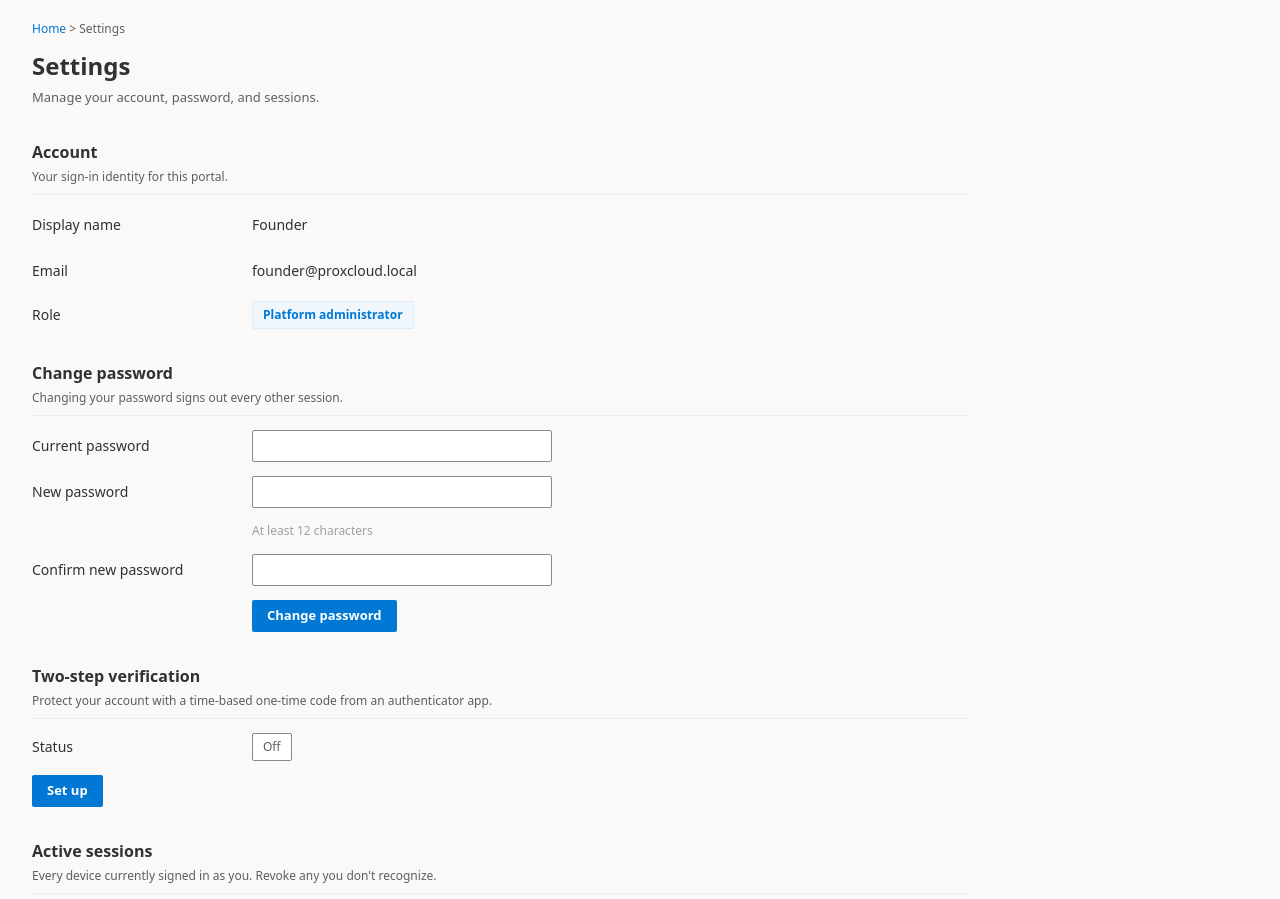
Scenario: Settings change-password — client-side guards › blocks submit and shows a length error when the new password is too short
The image size is (1280, 899).
Type "old-password-1" into the password field labelled "Current password" at (402, 446), box top-left (252, 430), bottom-right (552, 462)
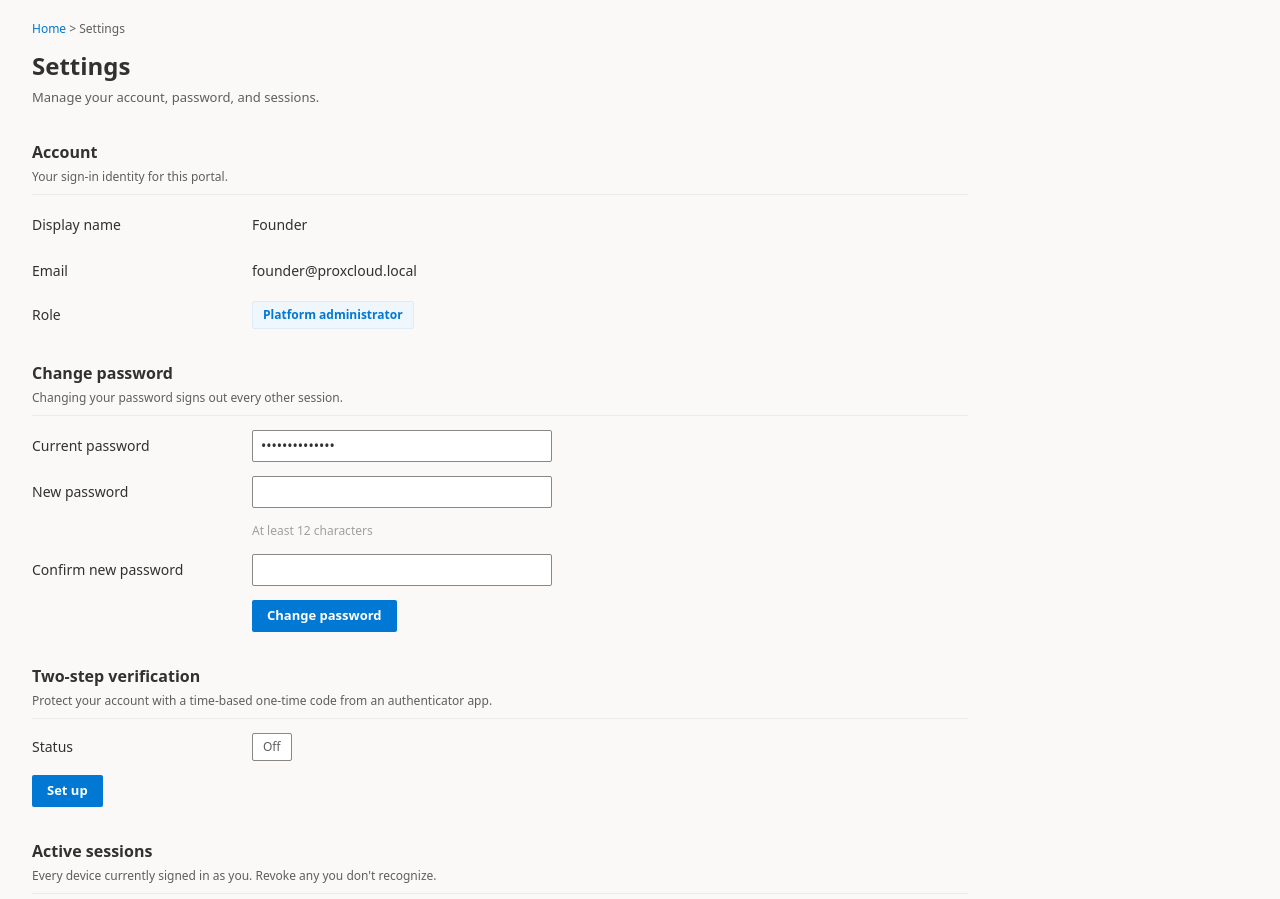
Type "short" into the password field labelled "New password" at (402, 492), box top-left (252, 476), bottom-right (552, 508)
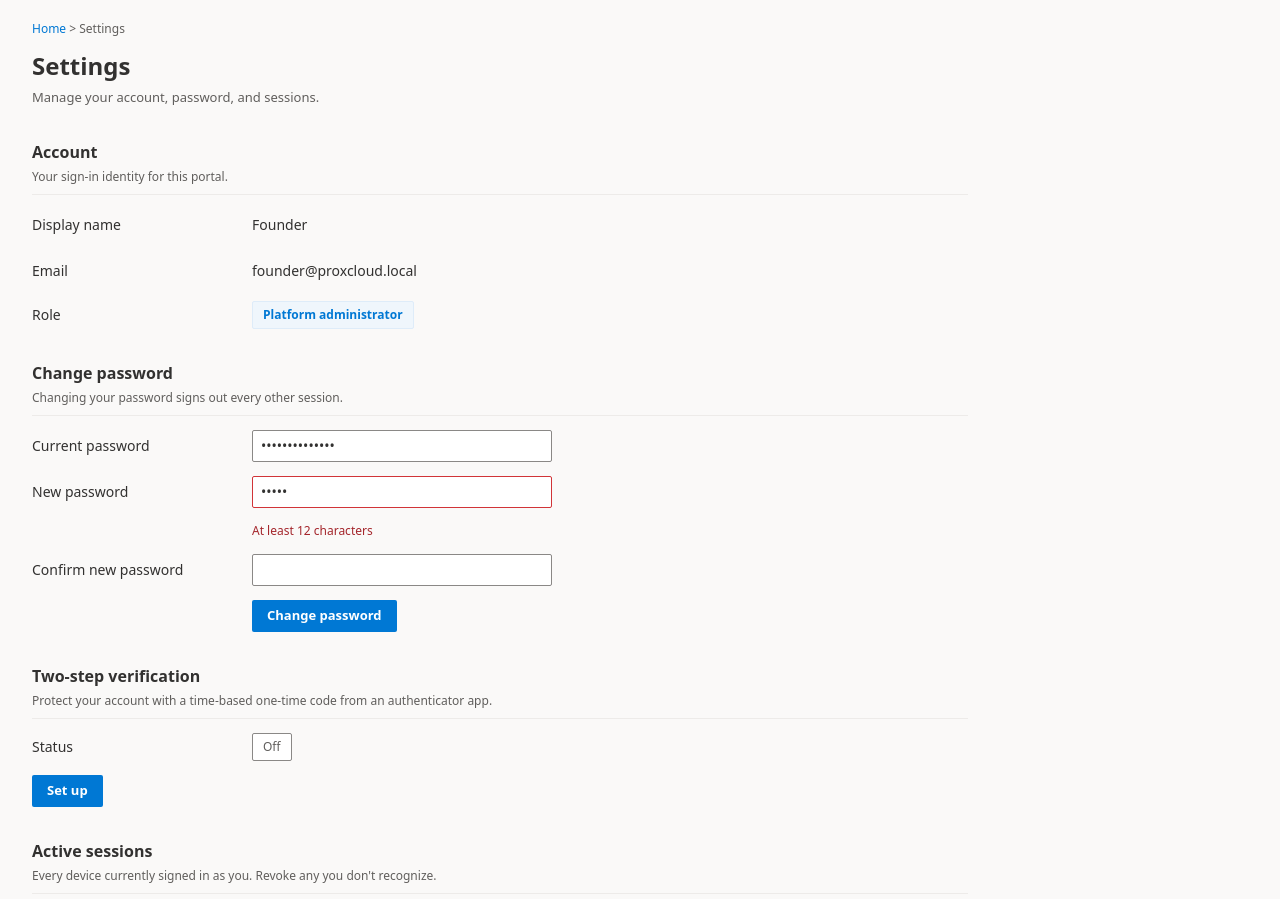
Type "short" into the password field labelled "Confirm new password" at (402, 570), box top-left (252, 554), bottom-right (552, 586)
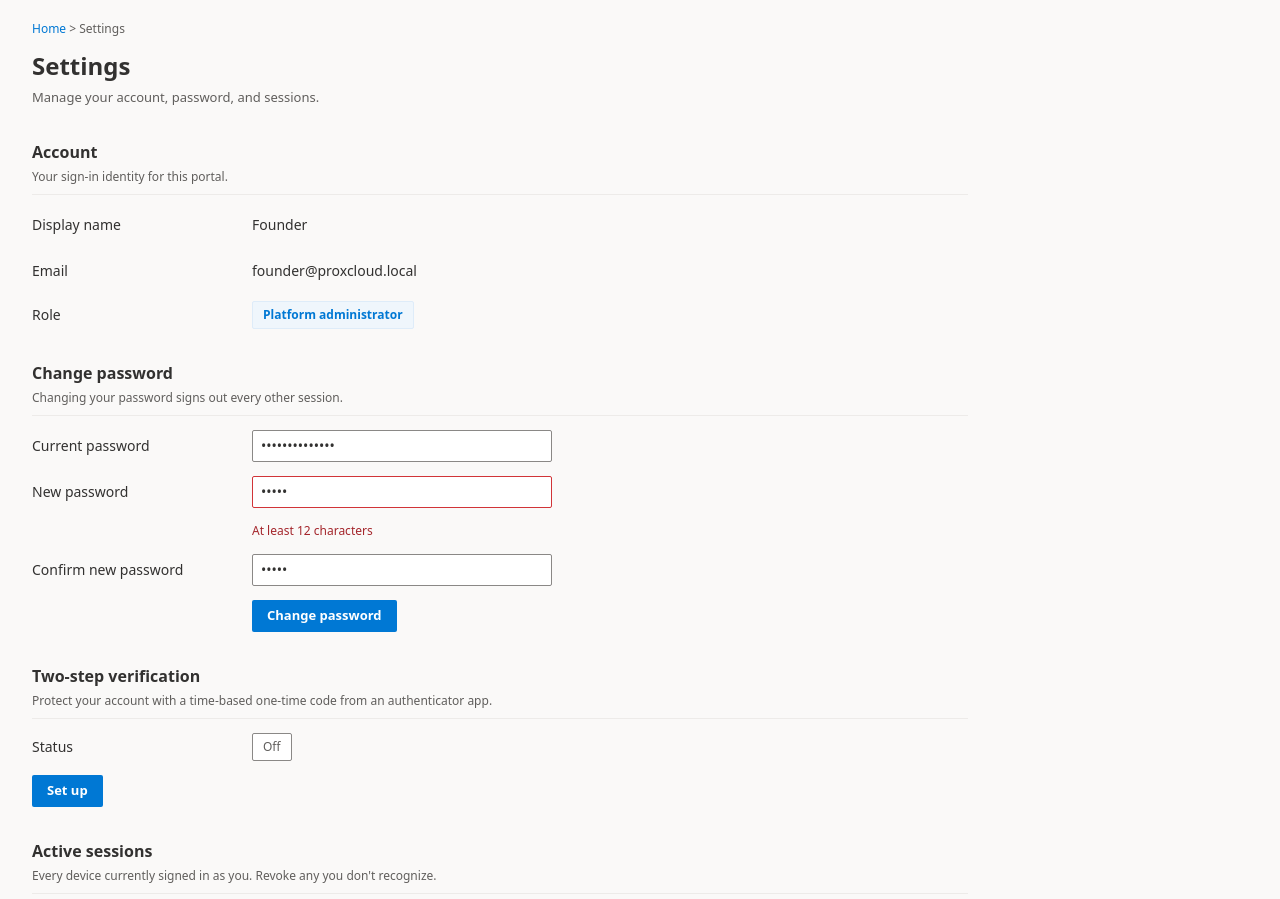
Click the button "Change password" at (324, 616), box top-left (252, 600), bottom-right (397, 632)
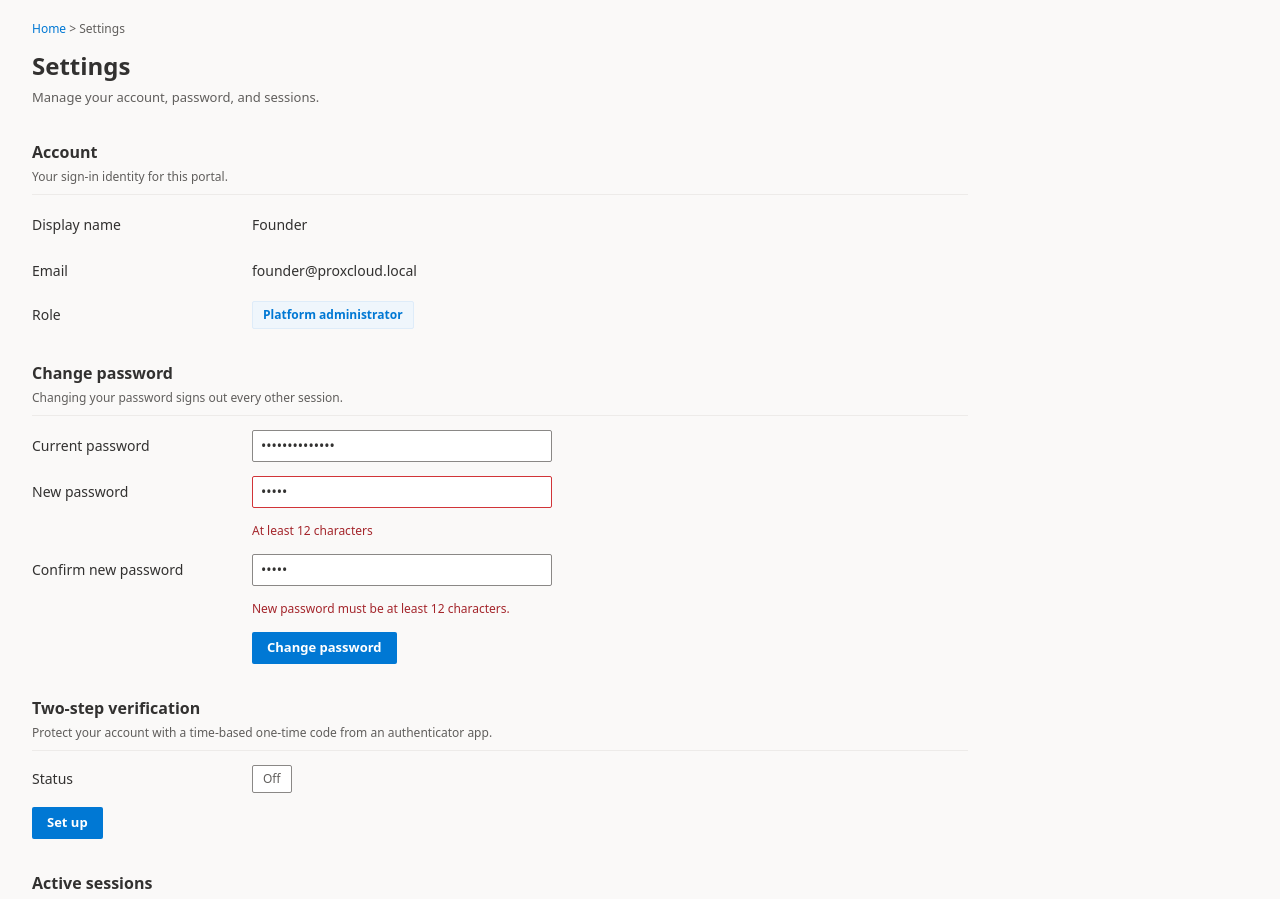
Result: the text "New password must be at least 12 characters." is shown at top-left (252, 600), bottom-right (552, 618)
